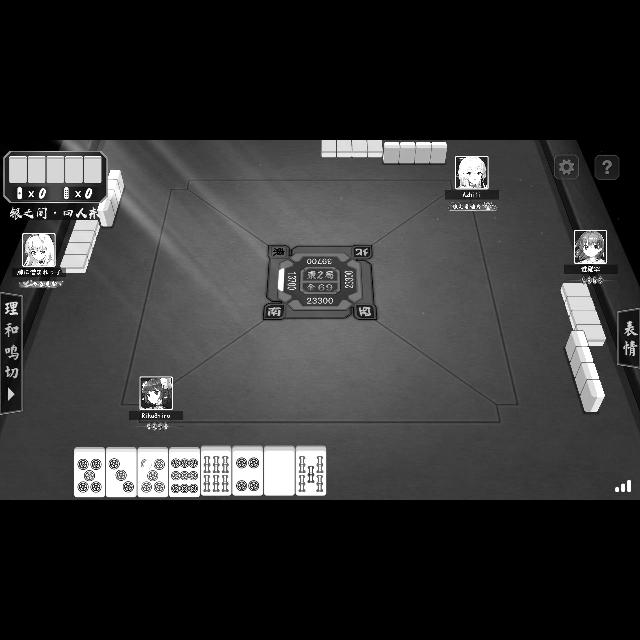3p: (105, 447, 136, 497)
4p: (233, 446, 263, 496)
5p: (138, 447, 168, 498), (74, 447, 104, 497)
5s: (296, 445, 326, 495)
6s: (201, 446, 231, 496)
9p: (170, 447, 200, 497)
haku: (264, 446, 294, 496)
